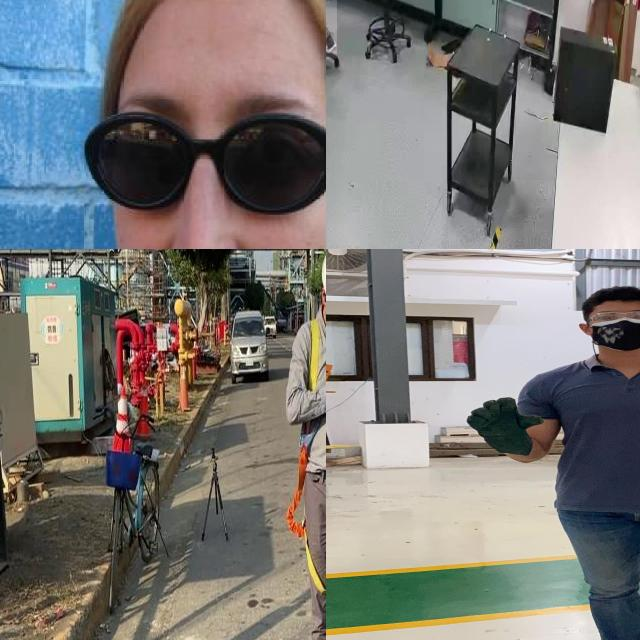Harness: (286, 442, 326, 594)
face_mask: (584, 309, 640, 346)
face_nomask: (94, 108, 326, 249)
glasses: (82, 105, 326, 213), (582, 308, 640, 326)
hand_glove: (461, 393, 544, 455)
head_nohelmet: (105, 0, 326, 62), (584, 283, 640, 309)
person: (4, 0, 326, 249), (459, 288, 640, 640)
shoes: (326, 20, 339, 53)
